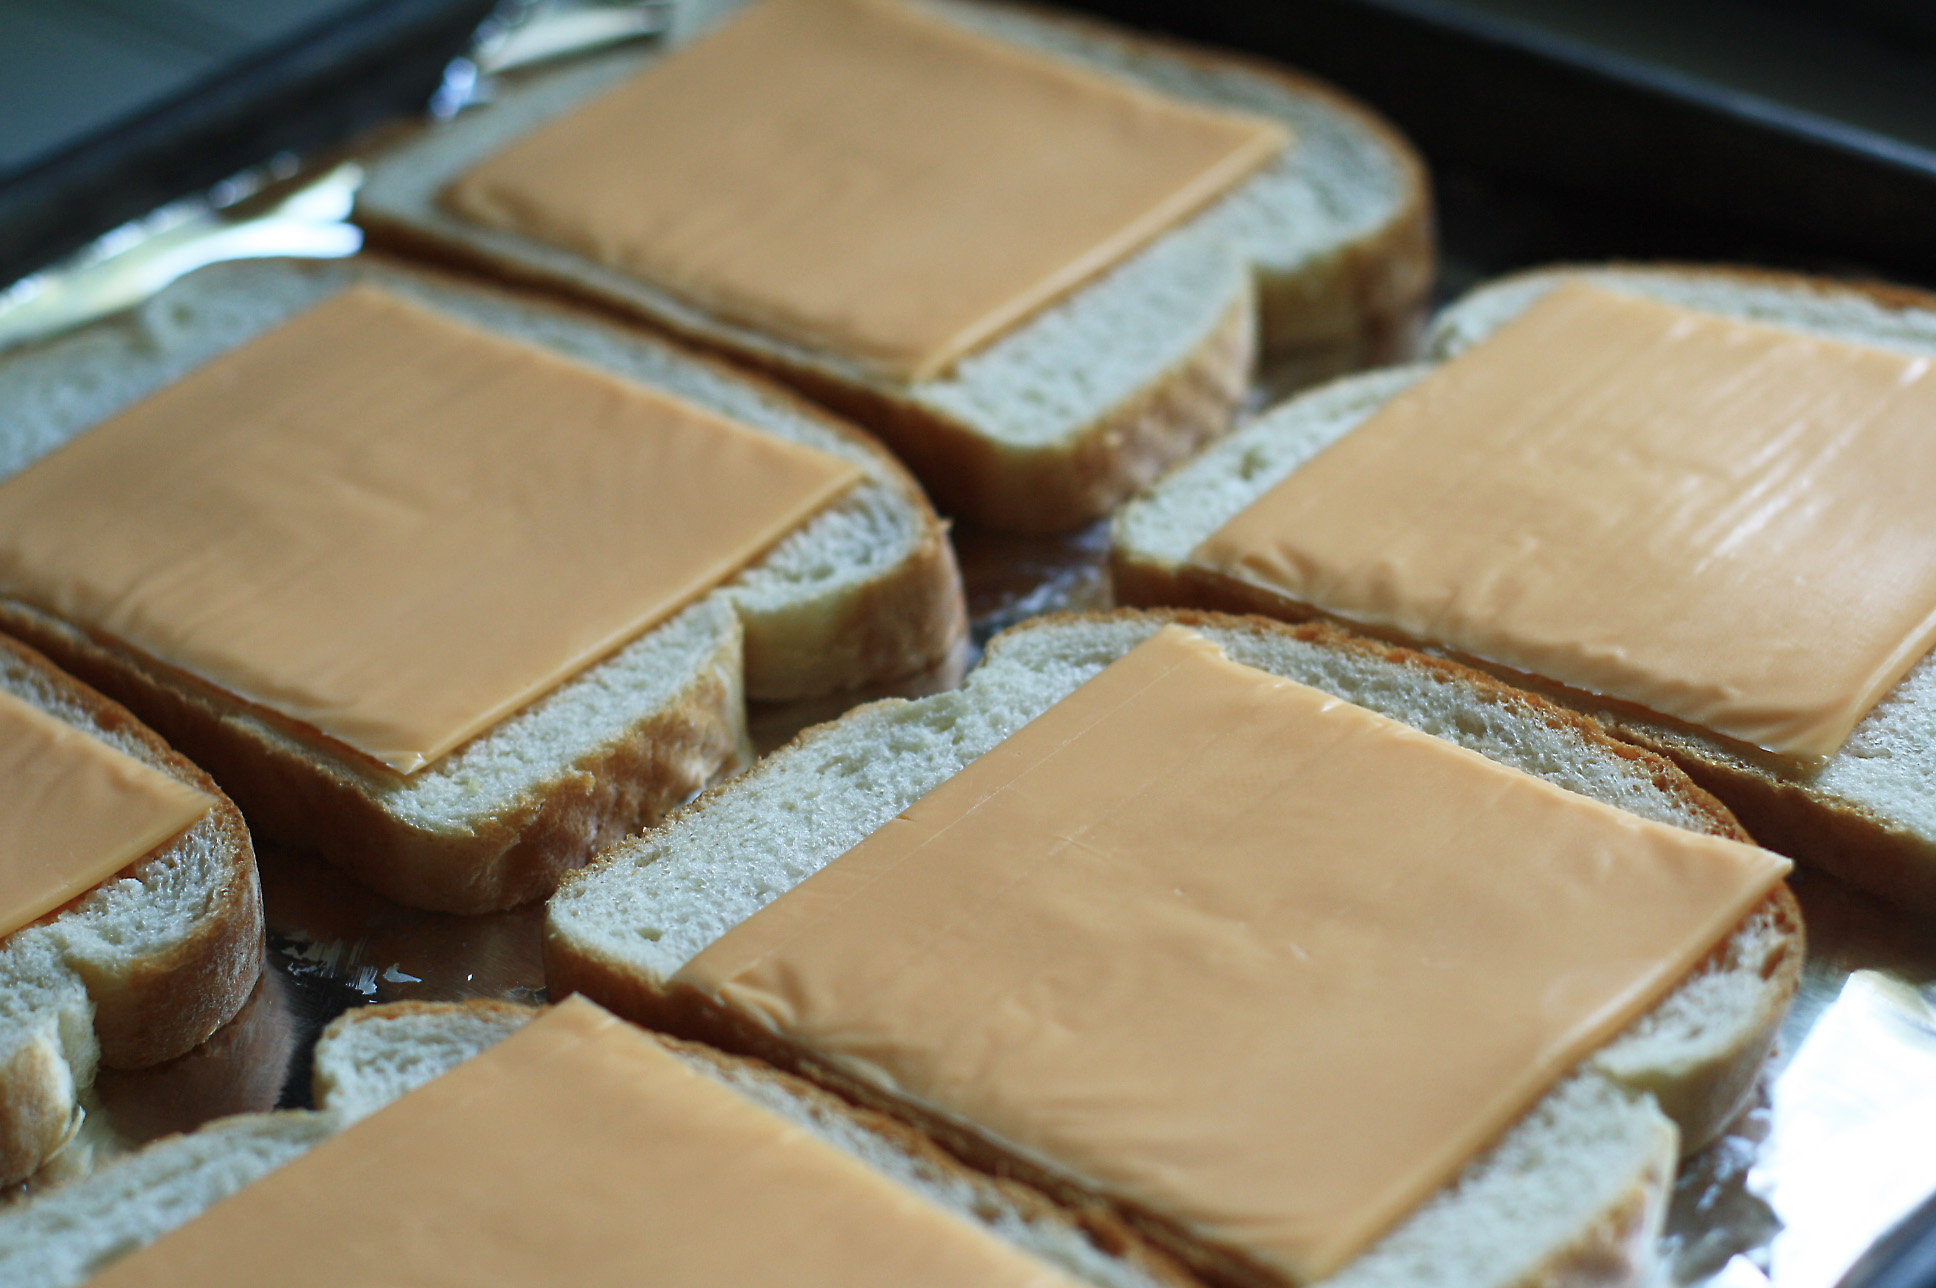slice of bread: (1111, 1, 1929, 913), (658, 609, 1804, 1220), (4, 273, 1015, 839), (372, 6, 1406, 486)
